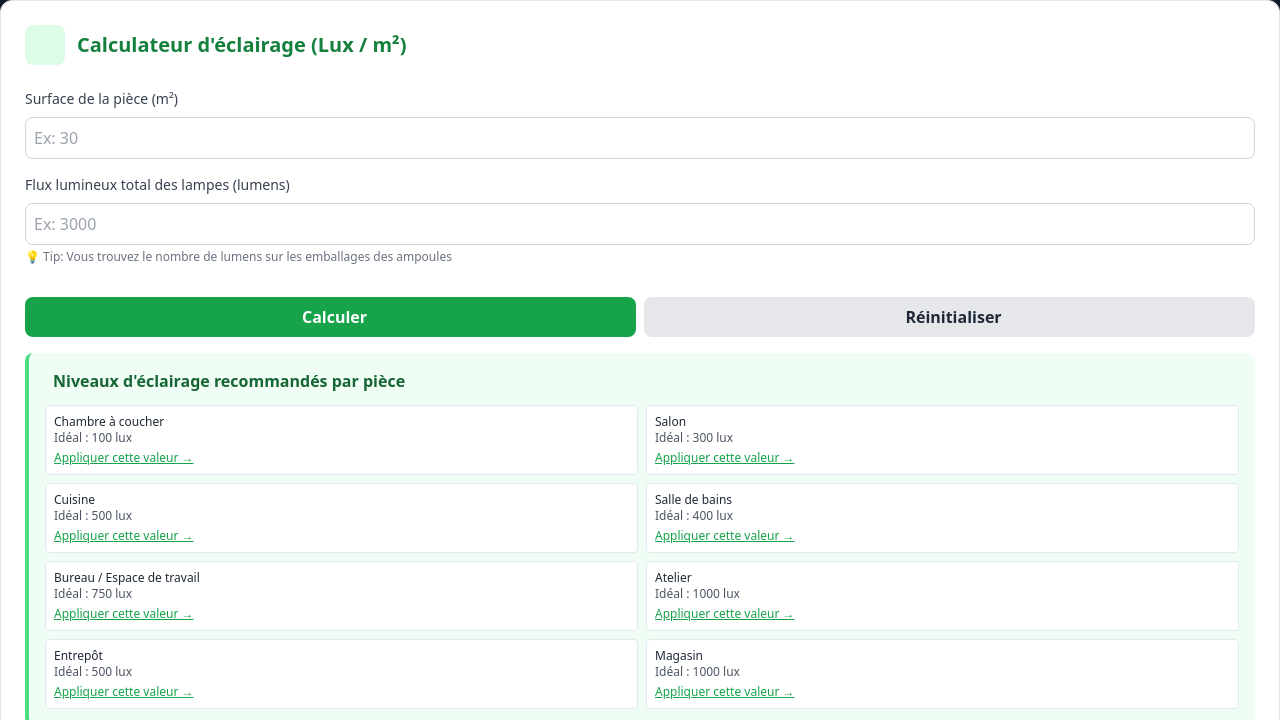
Test: LightingCalculator › shows "good" adequacy for moderate lux levels
Type "20" into the number field with placeholder "Ex: 30".
click(640, 138); type("20")  # box left=25, top=117, right=1255, bottom=159
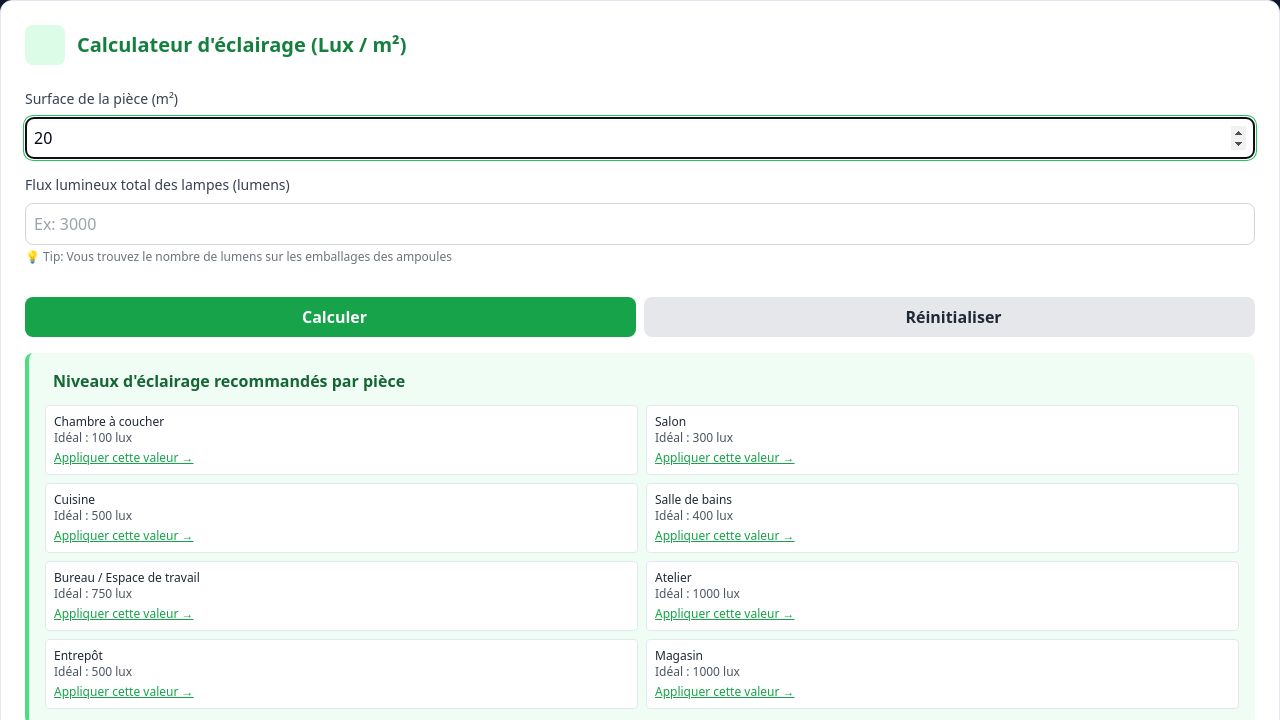
Type "5000" into the number field with placeholder "Ex: 3000".
click(640, 224); type("5000")  # box left=25, top=203, right=1255, bottom=245
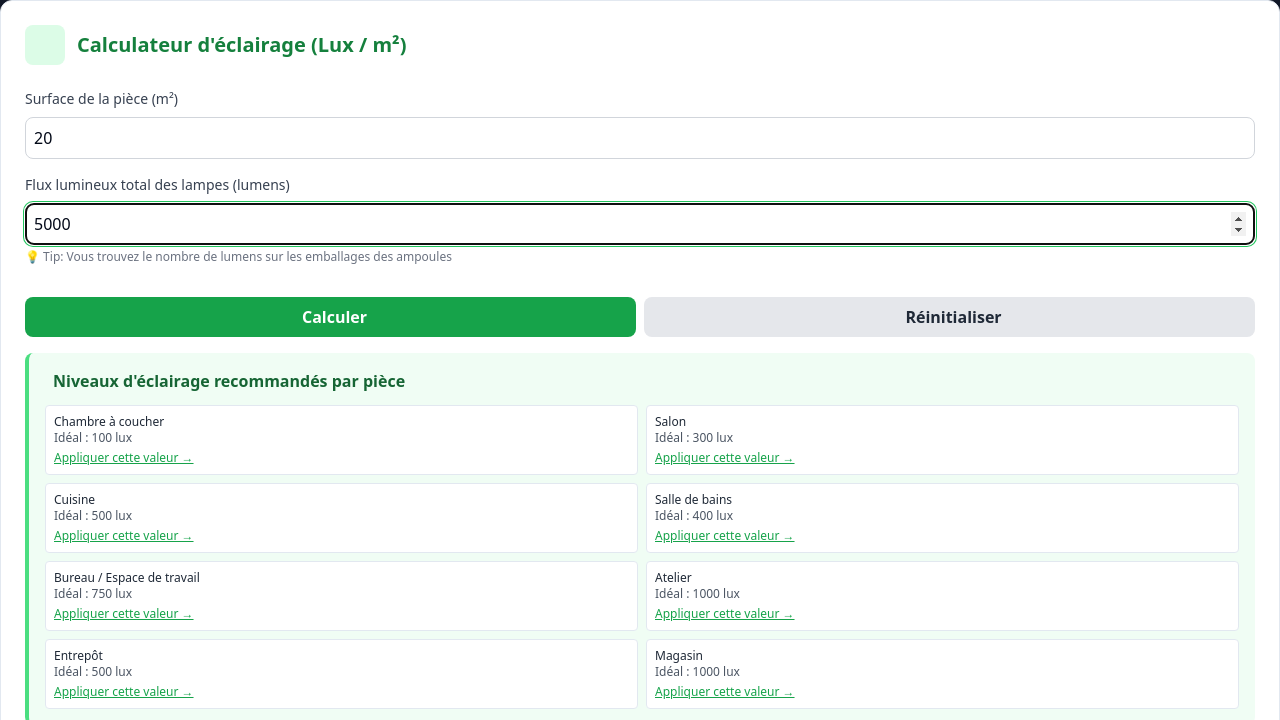
Click the button with aria-label "Calculer l'éclairement en lux".
click(330, 317)  # box left=25, top=297, right=636, bottom=337
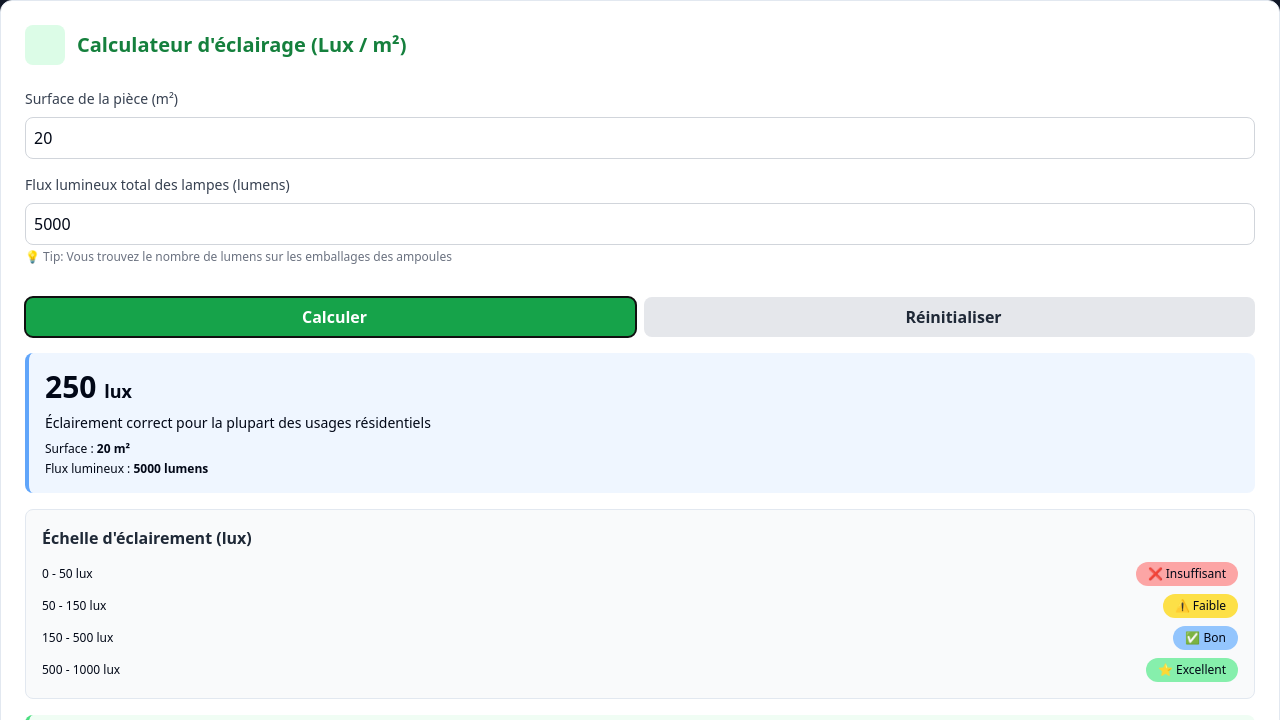
Expected: the text "✅ Bon" is shown, left=1173, top=626, right=1238, bottom=650
